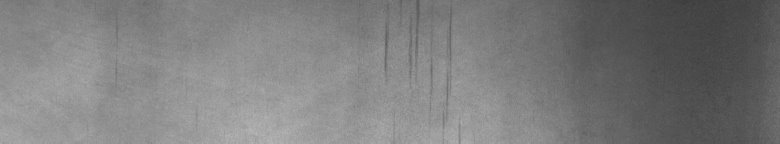ka: (381, 4, 452, 124)
